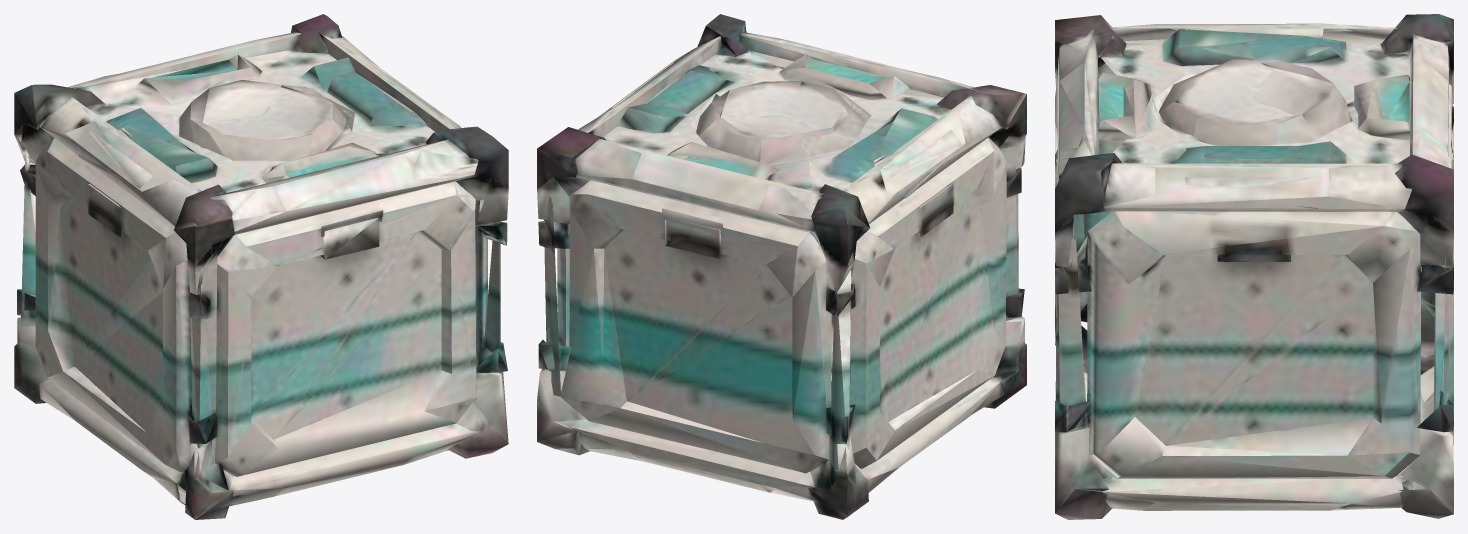
The model's file is crate.lod1.glb.
3 renders of one model, left to right at view 1: azimuth 30°, elevation 25°; view 2: azimuth 150°, elevation 25°; view 3: azimuth 270°, elevation 25°, orthographic. The views are drawn at different scales.
Bounding box in the file's own units: 0.724 × 0.6986 × 0.724.
1 material, 1 textured.
